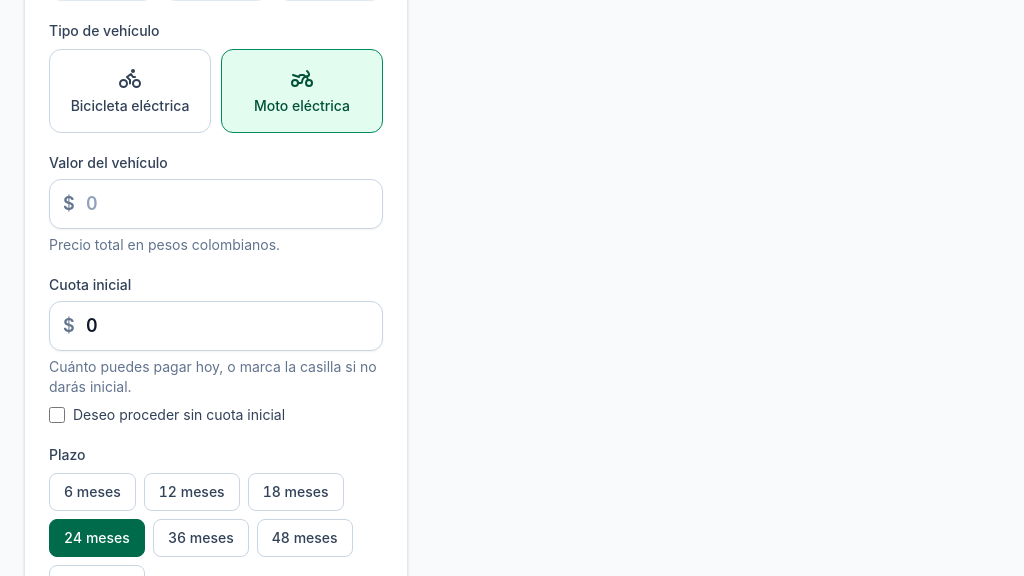
Scenario: CreditSimulatorPage › muestra un mensaje amigable ante un error inesperado (500)
(page scrolled)
Type "8000000" into the field labelled "Valor del vehículo" at (216, 204), box [49, 179, 383, 229]
(page scrolled)
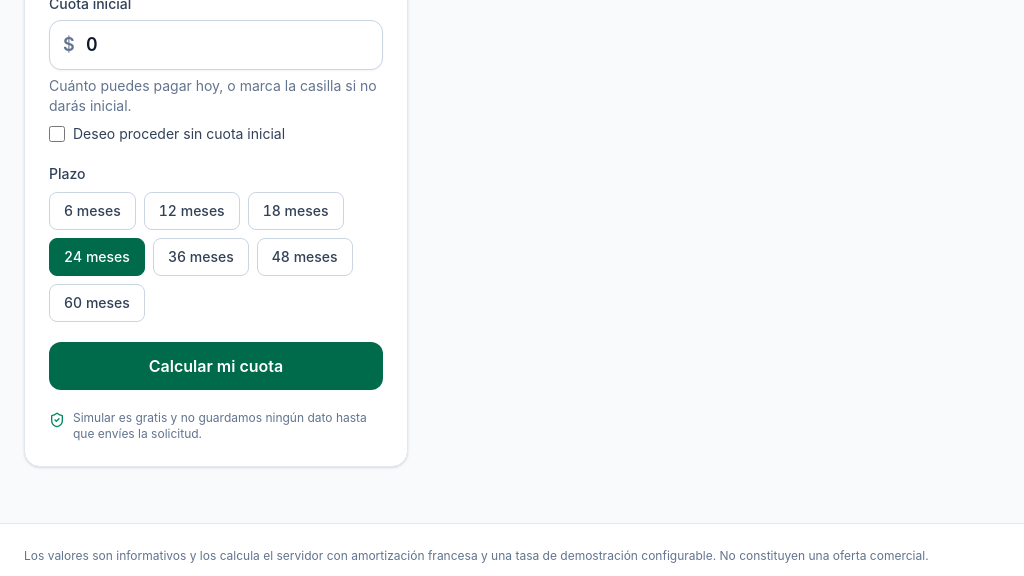
Click the button "Calcular mi cuota" at (216, 366), box [49, 342, 383, 390]
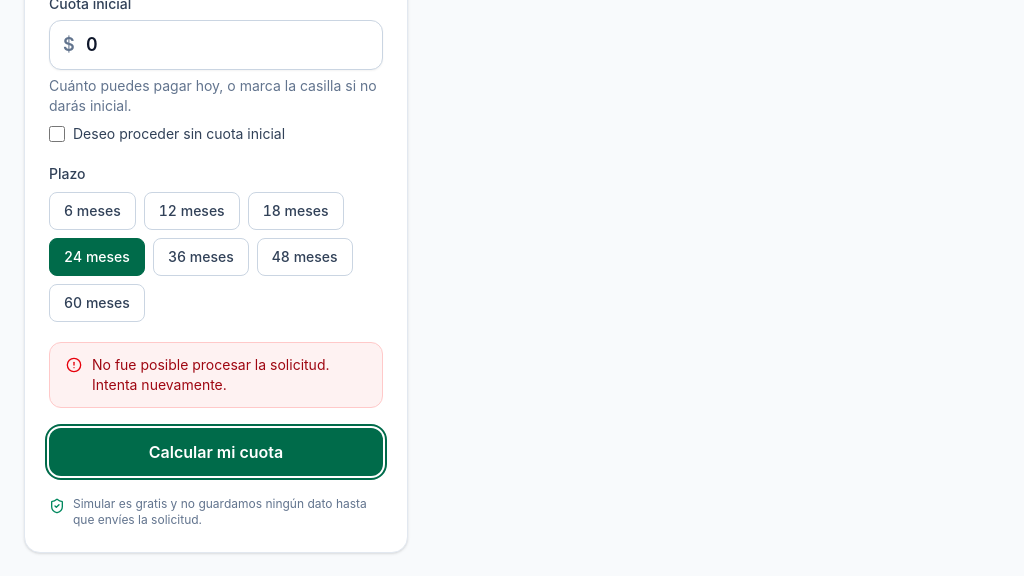
Expected: the message reads "No fue posible procesar la solicitud. Intenta nuevamente.", [92, 356, 330, 393]
